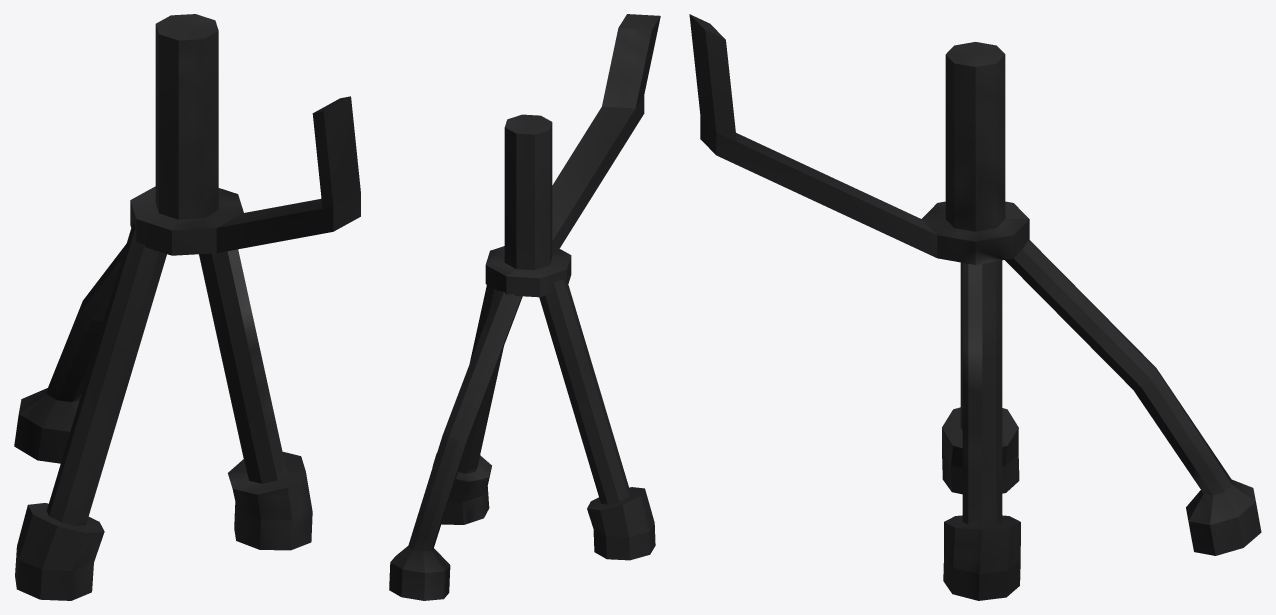
Rendered from MachineGunStand.fbx.
The picture shows the model from 3 angles, left to right: view 1: azimuth 30°, elevation 25°; view 2: azimuth 150°, elevation 25°; view 3: azimuth 270°, elevation 25°; orthographic projection. The views are drawn at different scales.
Parts seen in each view (by area): view 1: Stand; view 2: Stand; view 3: Stand.
Part boxes in pixels (x1,y1,x2,y2): Stand: (14,14,360,600); Stand: (389,14,660,600); Stand: (689,14,1261,600).
Size of the model in its own units: 155 by 289 by 287.
